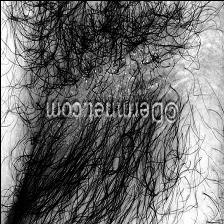Unclassified: (38, 56, 160, 98)
